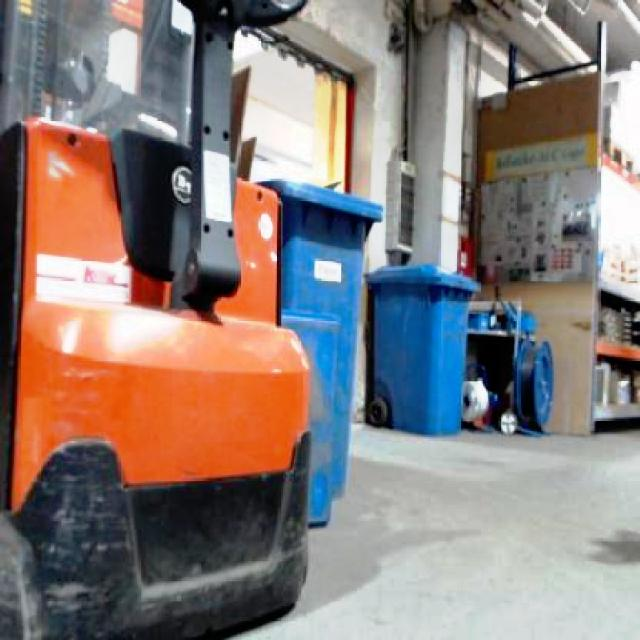ground: (0, 411, 638, 638)
pallet: (0, 109, 314, 638), (468, 18, 638, 437), (589, 17, 638, 435), (592, 271, 638, 432)
